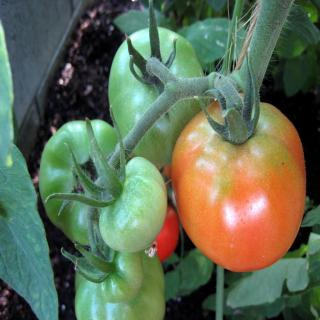tomato: (175, 96, 305, 272), (45, 105, 167, 252), (106, 24, 207, 167), (38, 121, 120, 247), (72, 247, 166, 320), (60, 252, 145, 306), (154, 208, 182, 264), (154, 164, 172, 186), (129, 153, 138, 162)
